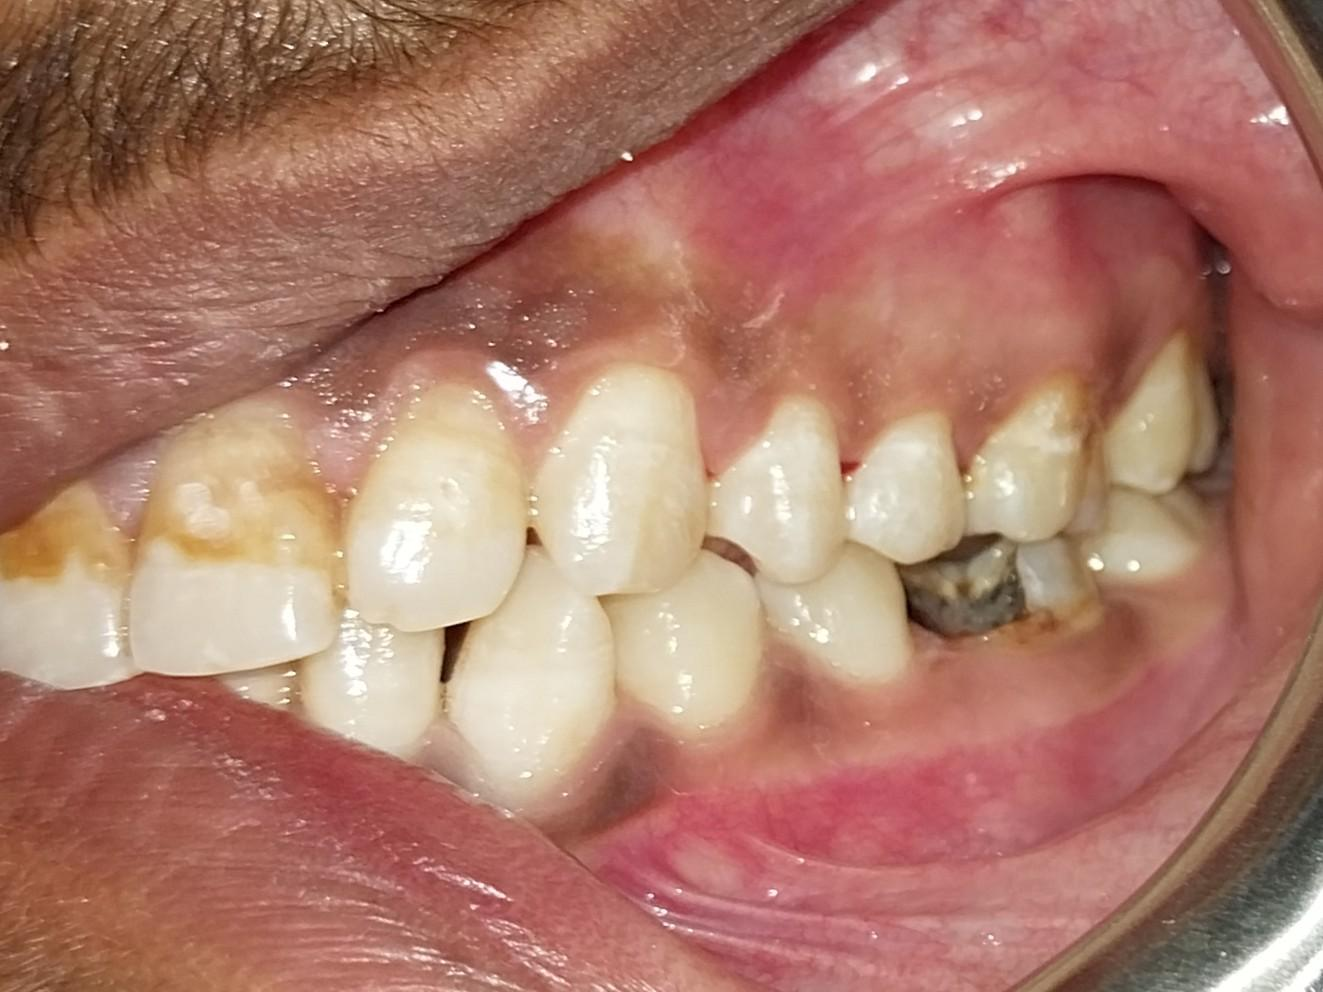D: (895, 524, 1108, 660)
